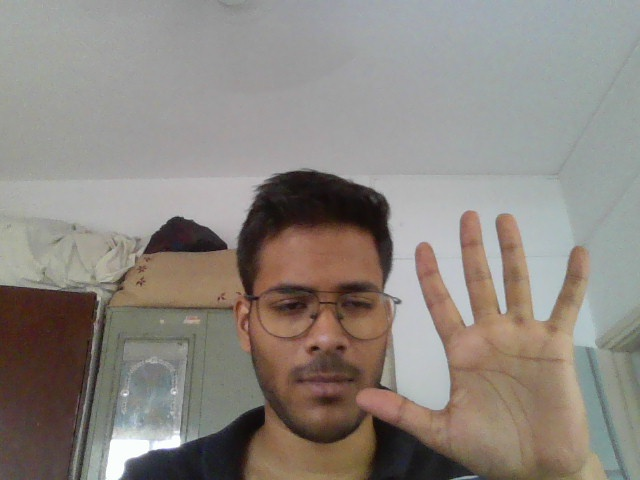hello: (357, 204, 636, 479)
